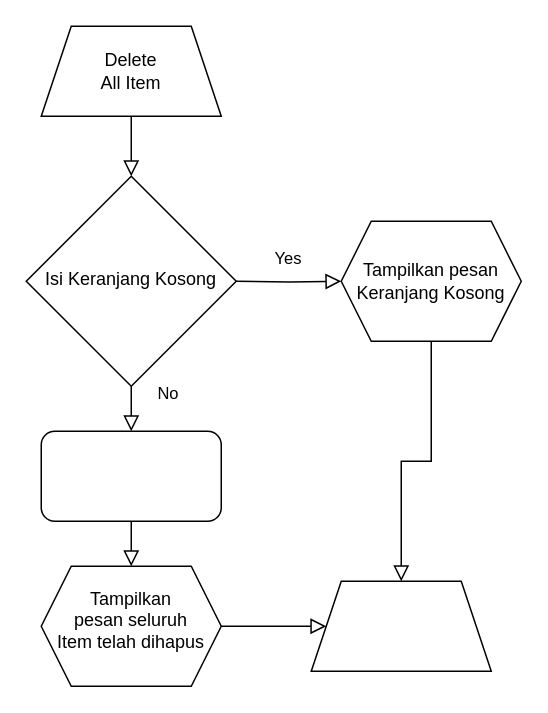
Some shapes in this 548 by 713 pixel diagram are drawn without their labels. The box of each missing label's shape, as (x1, y1, x2, y2) in pixels:
Hapus seluruh item dari Keranjang: (40, 430, 221, 521)
Main Menu: (310, 580, 491, 671)
